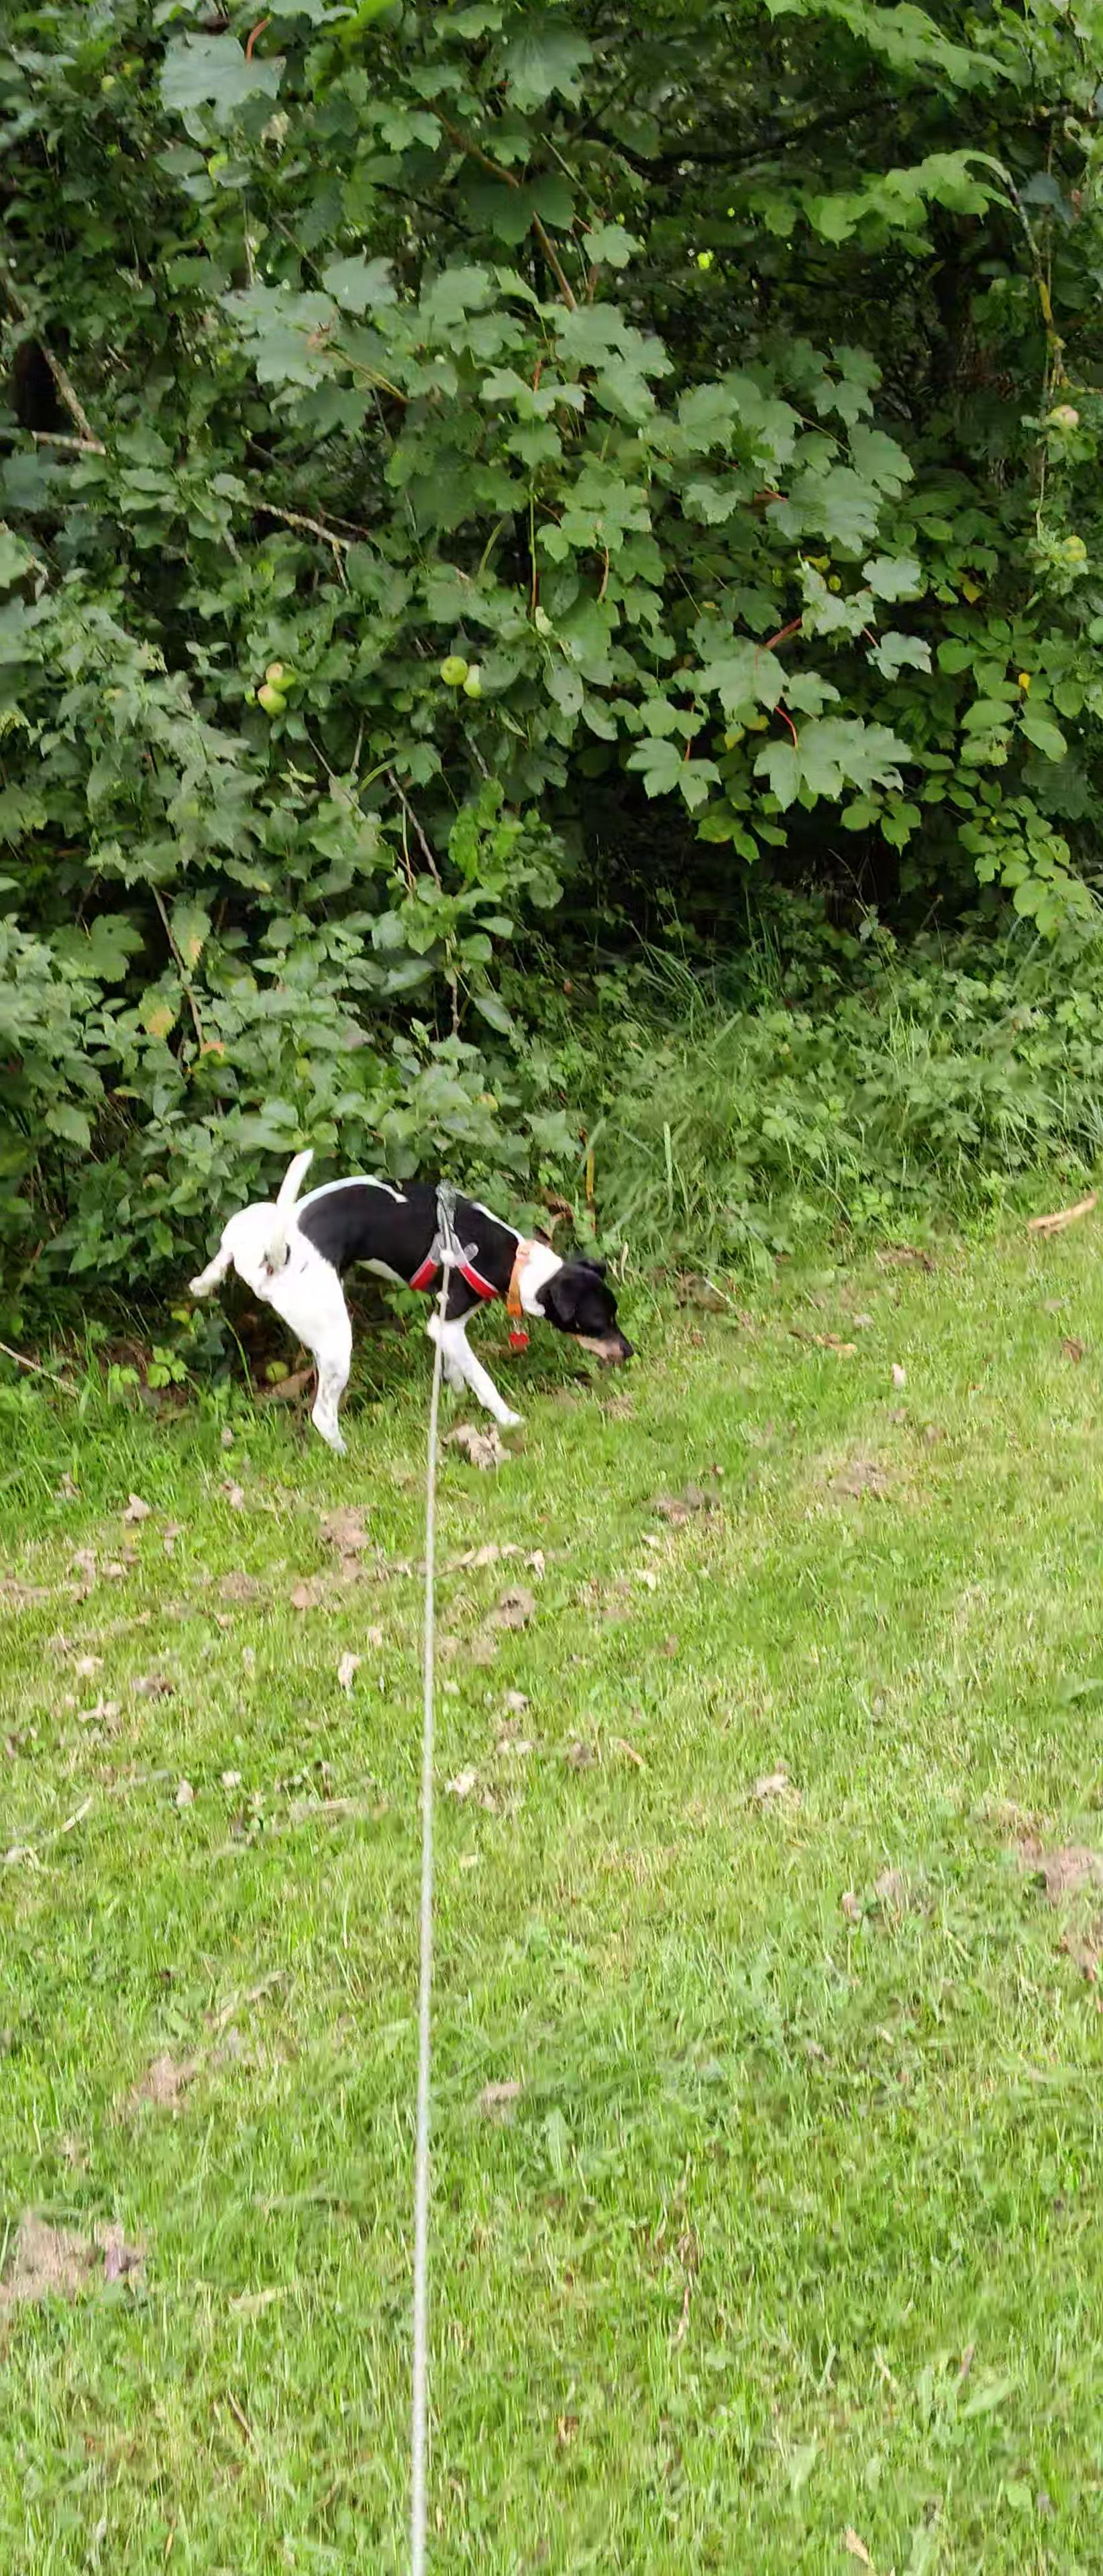Dog: (184, 1132, 646, 1474)
